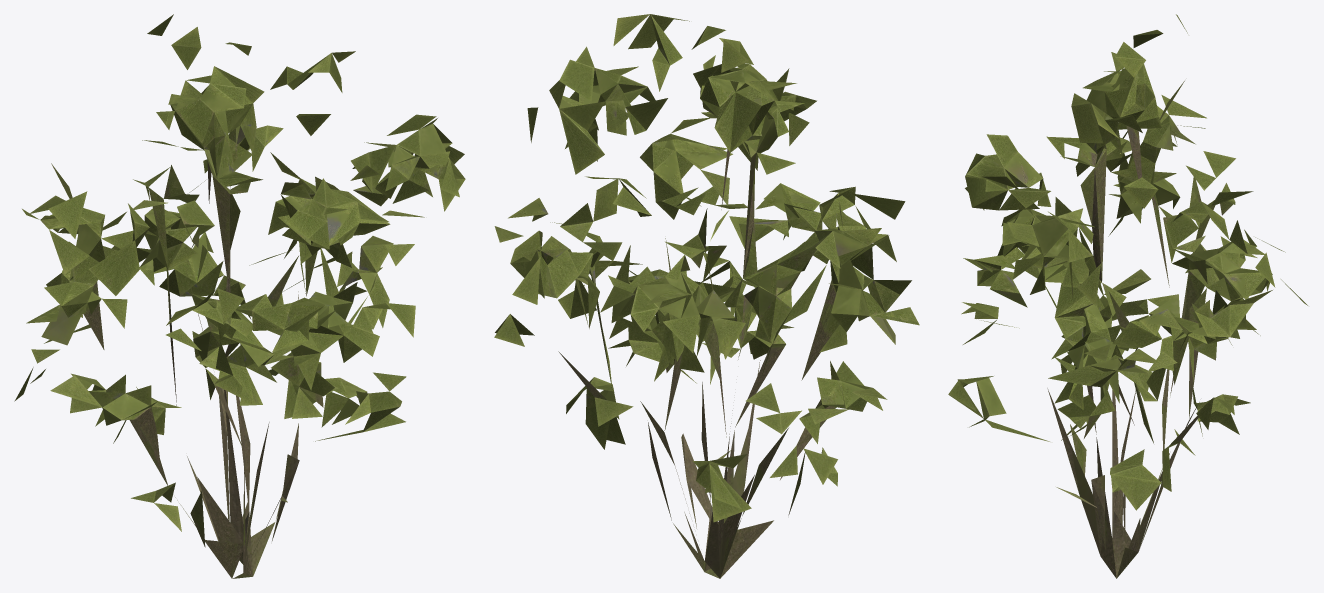
The model's file is arbusto.glb.
The picture shows the model from 3 angles, left to right: view 1: azimuth 30°, elevation 25°; view 2: azimuth 150°, elevation 25°; view 3: azimuth 270°, elevation 25°; orthographic projection. The views are drawn at different scales.
Bounding box in the file's own units: 1.45 × 1.86 × 1.13.
1 material, 1 textured.
